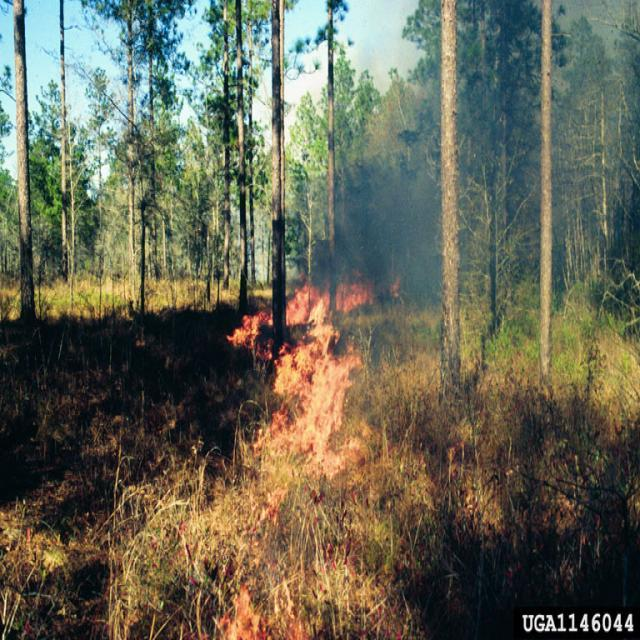Fire: (226, 273, 374, 484)
